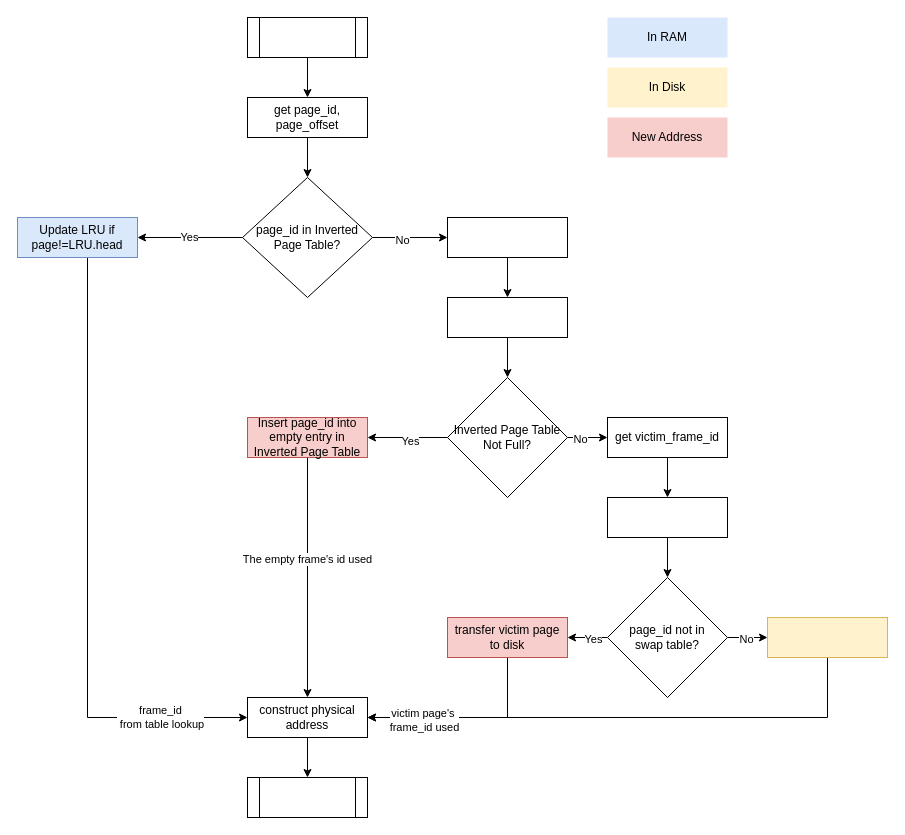
The diagram is 905 pixels wide and 835 high, and some of its shapes have lost their labels. Here are the shapes that lost their labels. From the top down, the centre of each, then its label:
At pixel 307 37: "Virtual Address".
At pixel 507 237: "page_fault++".
At pixel 507 317: "Update LRU, get victim_page_id".
At pixel 667 517: "Update Inverted Page Table".
At pixel 827 637: "swap victim page and page on disk".
At pixel 307 797: "write to physical address".
